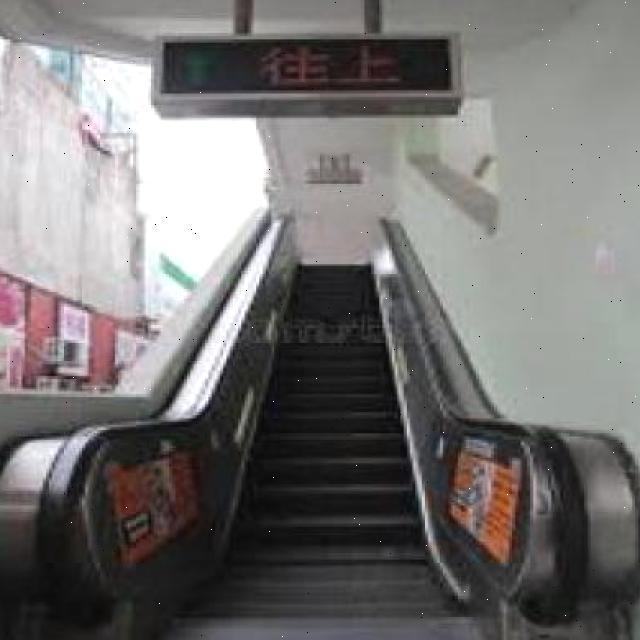stair: (223, 410, 437, 555)
